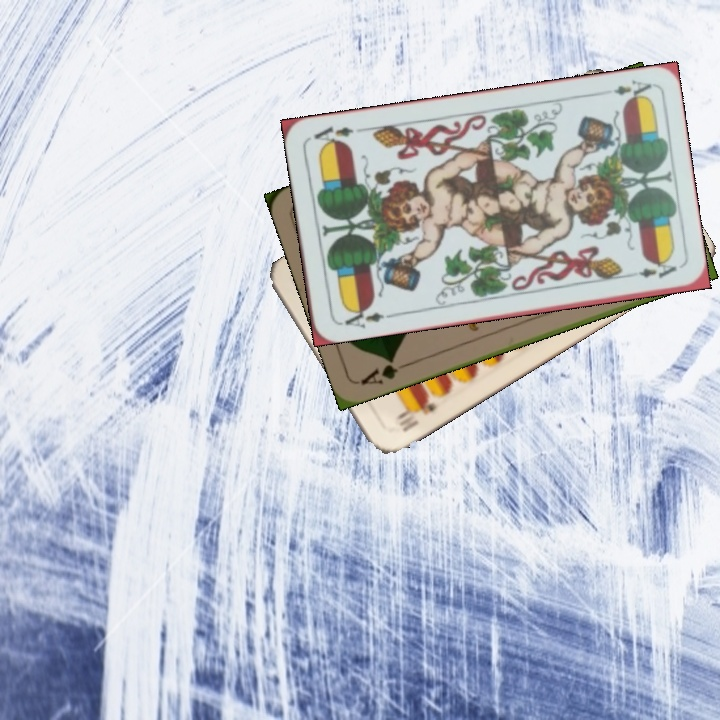E10: (394, 393, 440, 435)
EA: (341, 302, 395, 331), (609, 76, 654, 104)
GA: (356, 353, 413, 388)
